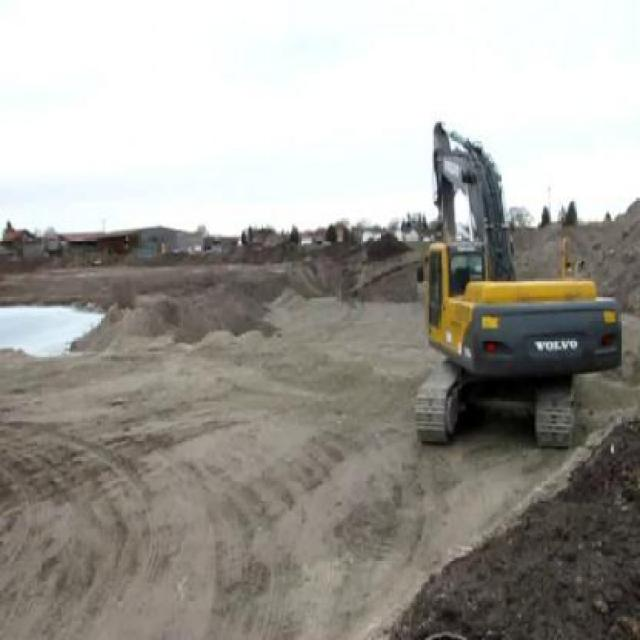Excavator: (414, 121, 620, 448)
